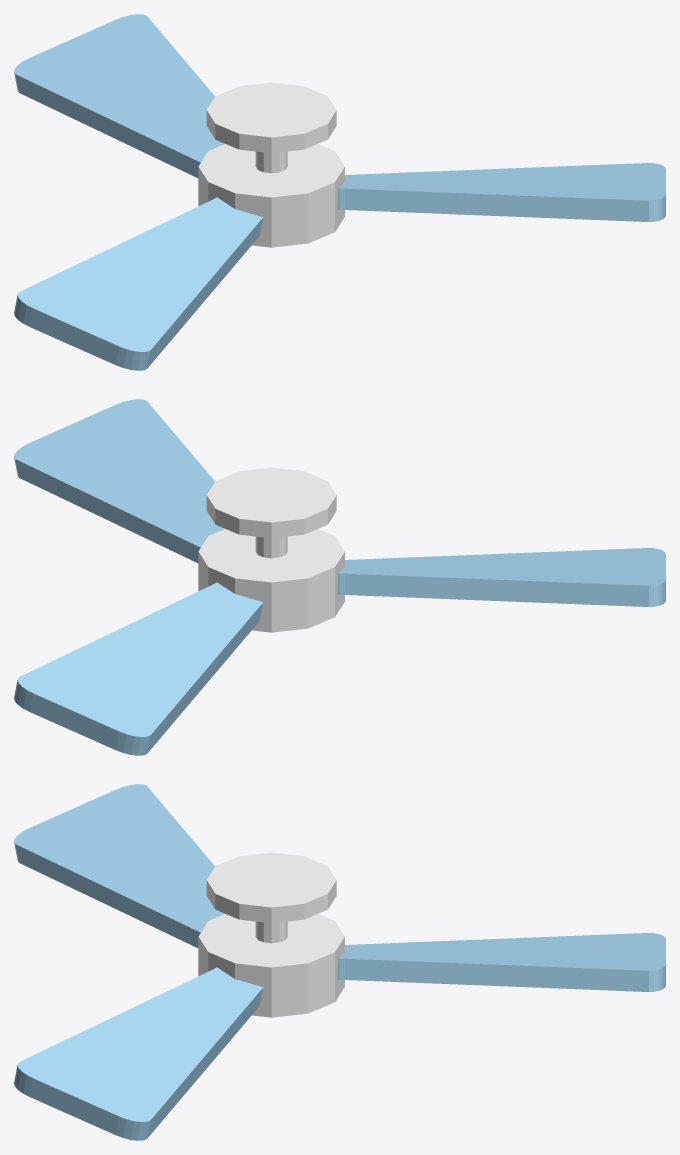
The model's file is ceiling-fan.fbx.
3 renders of one model, top to bottom at view 1: azimuth 30°, elevation 25°; view 2: azimuth 150°, elevation 25°; view 3: azimuth 270°, elevation 25°, orthographic.
Visible parts, largest first — view 1: Cube, Cylinder; view 2: Cube, Cylinder; view 3: Cube, Cylinder.
Boxes of the visible parts, x1,y1,x2,y2 form: Cube: (14, 14, 665, 370); Cylinder: (198, 82, 344, 247); Cube: (14, 399, 665, 755); Cylinder: (198, 467, 344, 632); Cube: (14, 784, 665, 1140); Cylinder: (198, 852, 344, 1017).
Bounding box in the file's own units: 148 × 23.46 × 130.
Materials: 1 (1 with a texture image).
